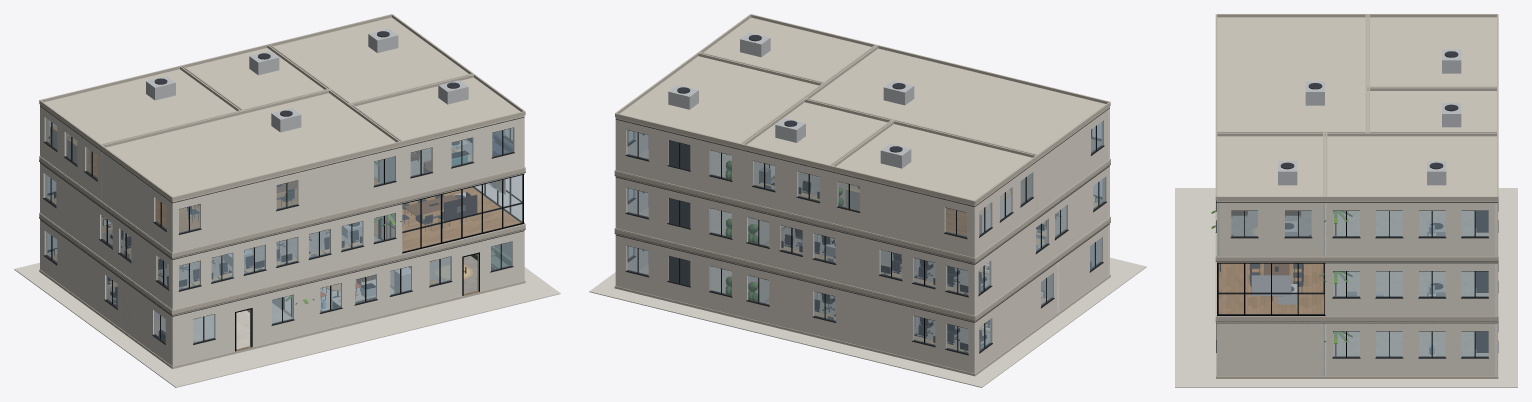
The model's file is edificio-3-andares.glb.
3 renders of one model, left to right at view 1: azimuth 30°, elevation 25°; view 2: azimuth 150°, elevation 25°; view 3: azimuth 270°, elevation 25°, orthographic. The views are drawn at different scales.
Visible parts, largest first — view 1: teto_malha (×3), paredes_malha (×3), janelas_malha (×3), terreno_malha, esquadrias_malha (×3), divisorias_vidro_malha, laje_malha (×3), piso_madeira_malha (×2), piso_carpete_malha (×2), paredes_topo_malha (×3), piso_porcelanato_malha, tv-parede_malha (+1 smaller); view 2: paredes_malha (×3), teto_malha (×3), janelas_malha (×3), terreno_malha, laje_malha (×3), esquadrias_malha (×3), paredes_topo_malha (×3), piso_carpete_malha (×2), elevador_malha (×3), piso_porcelanato_malha, piso_madeira_malha; view 3: teto_malha (×3), paredes_malha (×3), terreno_malha, janelas_malha (×3), piso_porcelanato_malha (×3), divisorias_vidro_malha, piso_madeira_malha, esquadrias_malha (×3), laje_malha (×3), piso_carpete_malha, quadro-parede_malha, paredes_topo_malha (+1 smaller).
Part boxes in pixels (x1,y1,x2,y2): teto_malha (×3): [39, 14, 525, 316]; paredes_malha (×3): [40, 106, 524, 366]; janelas_malha (×3): [44, 118, 513, 343]; terreno_malha: [14, 262, 560, 387]; esquadrias_malha (×3): [43, 122, 524, 351]; divisorias_vidro_malha: [381, 175, 522, 251]; laje_malha (×3): [39, 156, 525, 368]; piso_madeira_malha (×2): [89, 150, 520, 251]; piso_carpete_malha (×2): [102, 229, 477, 304]; paredes_topo_malha (×3): [40, 106, 524, 316]; piso_porcelanato_malha: [155, 279, 393, 349]; tv-parede_malha: [444, 194, 477, 221]; paredes_malha (×3): [615, 108, 1109, 373]; teto_malha (×3): [615, 14, 1110, 322]; janelas_malha (×3): [627, 121, 1105, 353]; terreno_malha: [589, 257, 1146, 387]; laje_malha (×3): [614, 158, 1110, 376]; esquadrias_malha (×3): [625, 125, 1106, 355]; paredes_topo_malha (×3): [615, 108, 1109, 322]; piso_carpete_malha (×2): [763, 207, 1065, 347]; elevador_malha (×3): [668, 140, 690, 285]; piso_porcelanato_malha: [639, 149, 774, 177]; piso_madeira_malha: [946, 208, 966, 236]; teto_malha (×3): [1215, 14, 1498, 322]; paredes_malha (×3): [1216, 203, 1497, 376]; terreno_malha: [1175, 188, 1517, 387]; janelas_malha (×3): [1231, 211, 1488, 356]; piso_porcelanato_malha (×3): [1333, 211, 1488, 355]; divisorias_vidro_malha: [1219, 264, 1323, 314]; piso_madeira_malha: [1218, 263, 1324, 313]; esquadrias_malha (×3): [1216, 201, 1498, 358]; laje_malha (×3): [1215, 211, 1498, 378]; piso_carpete_malha: [1231, 211, 1311, 235]; quadro-parede_malha: [1251, 275, 1291, 296]; paredes_topo_malha: [1325, 262, 1497, 263].
Bounding box in the file's own units: 22 × 10.01 × 16.
26 materials, 5 textured.
